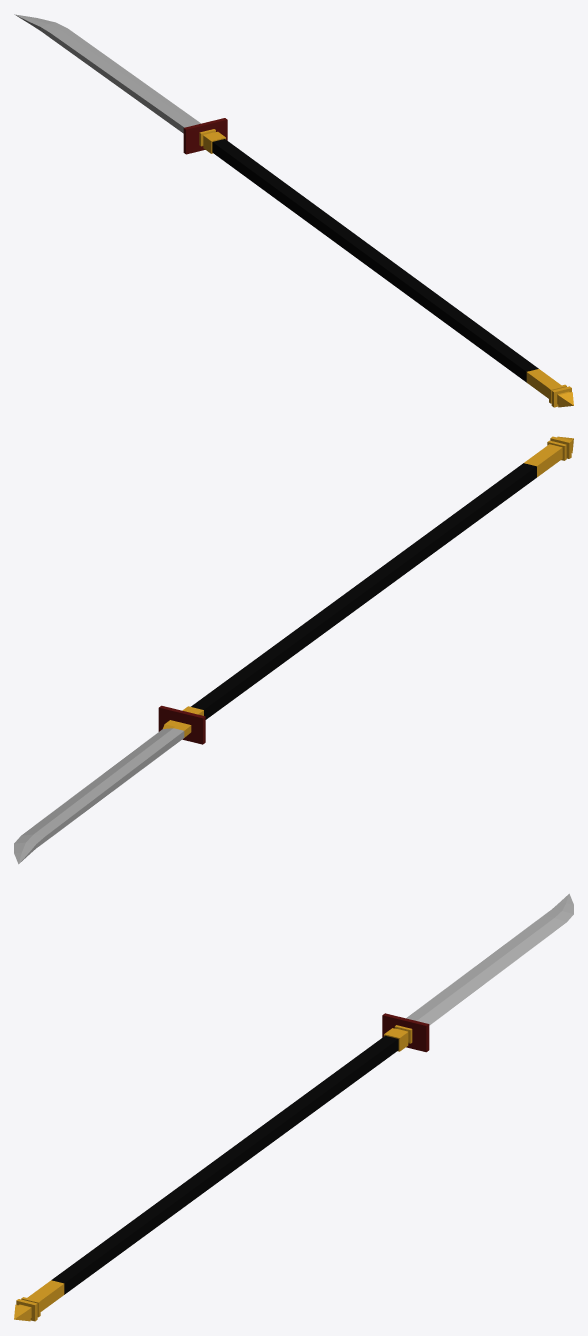
The model's file is Naginta - Textured Low Poly Asian Weapon Pack by Kickin It Studios.fbx.
The picture shows the model from 3 angles, top to bottom: view 1: azimuth 30°, elevation 25°; view 2: azimuth 150°, elevation 25°; view 3: azimuth 330°, elevation 25°; orthographic projection. The views are drawn at different scales.
Parts seen in each view (by area): view 1: Naginta; view 2: Naginta; view 3: Naginta.
Part boxes in pixels (x1,y1,x2,y2): Naginta: (14, 14, 573, 407); Naginta: (14, 436, 573, 864); Naginta: (14, 893, 573, 1321).
Size of the model in its own units: 63.35 by 36.15 by 1432.
